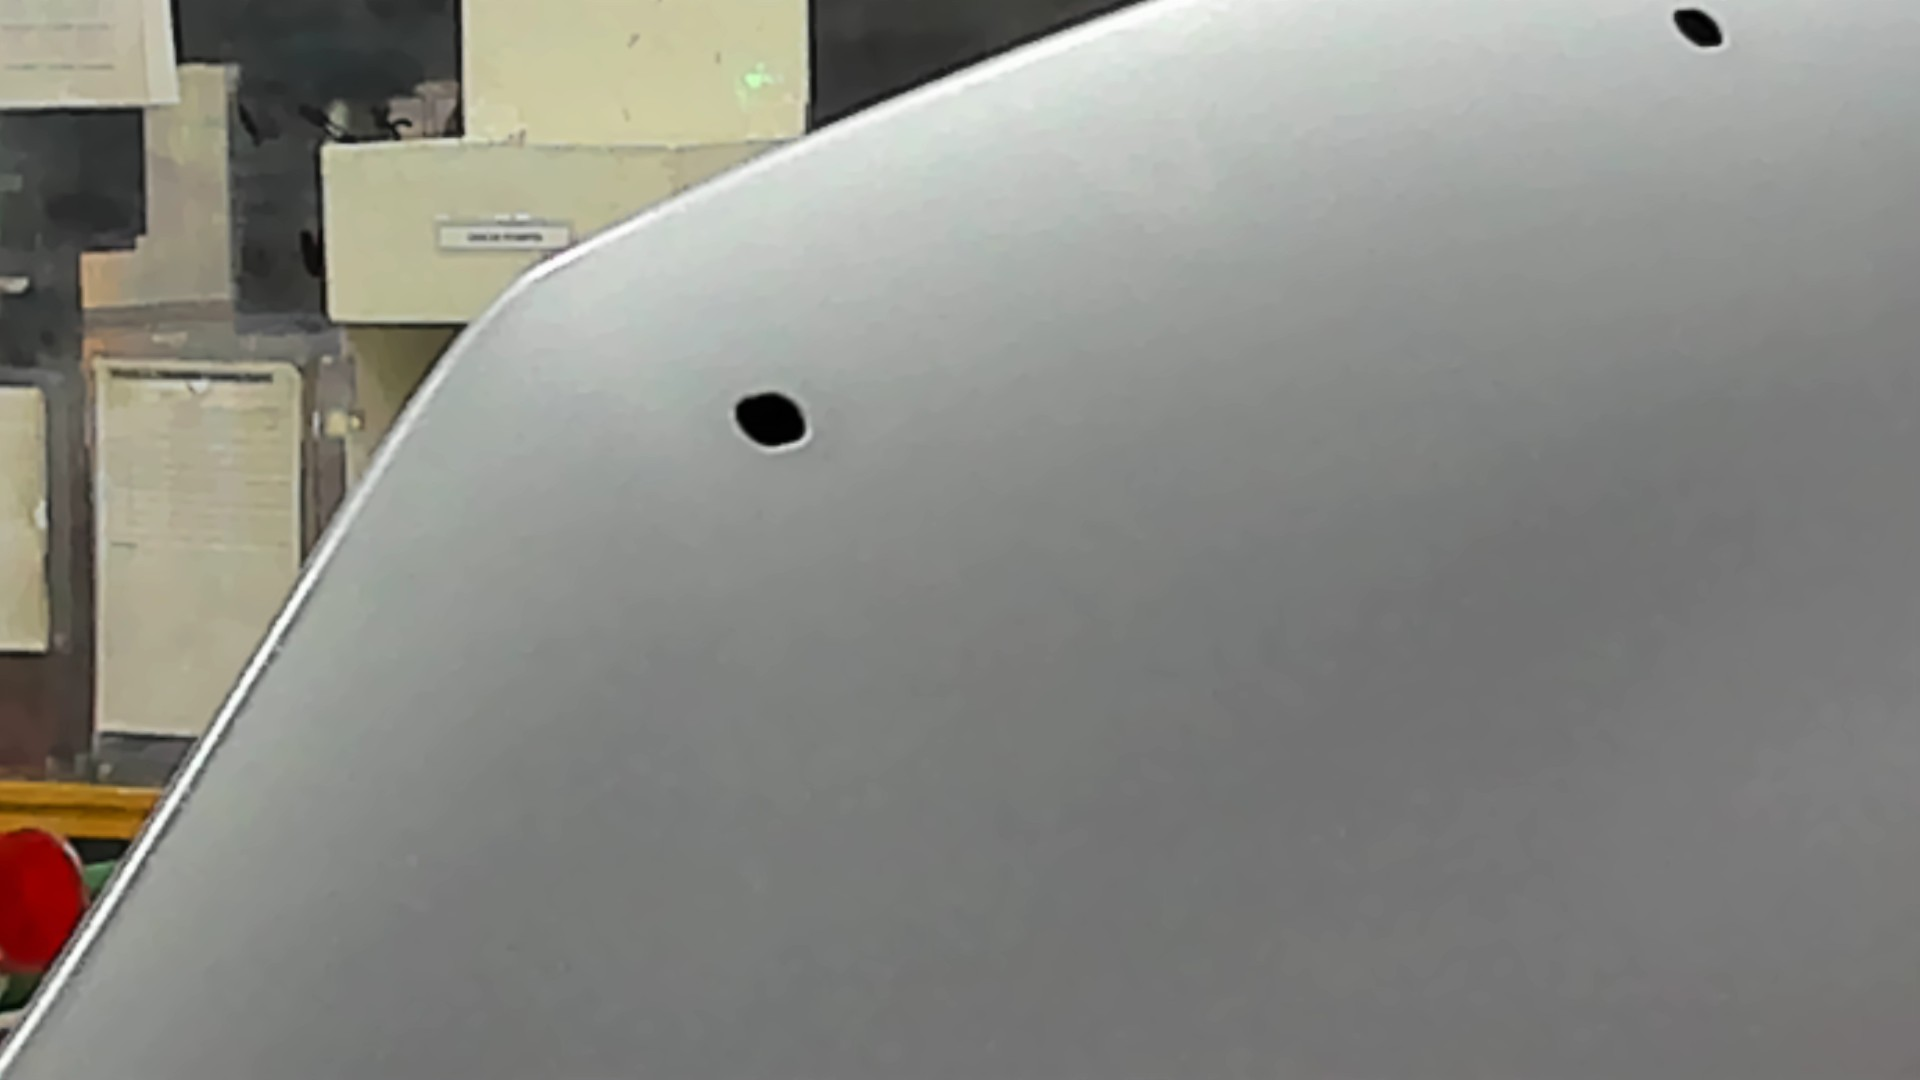chico: (720, 381, 825, 465), (1662, 1, 1737, 63)
